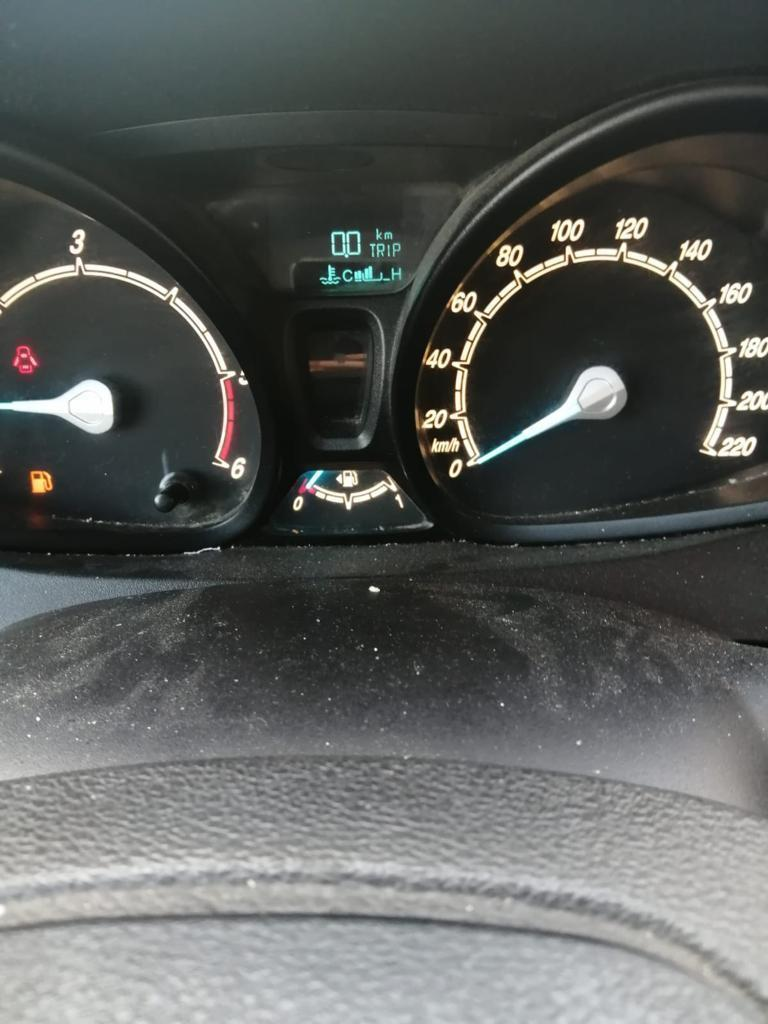,: (344, 253, 349, 259)
0: (329, 230, 345, 256), (345, 230, 361, 255)
X: (342, 269, 353, 283), (390, 266, 401, 280), (376, 241, 385, 258), (392, 241, 401, 256), (368, 242, 375, 257), (374, 227, 382, 240), (384, 230, 393, 240), (386, 243, 391, 258)
odometer: (259, 214, 424, 300)
